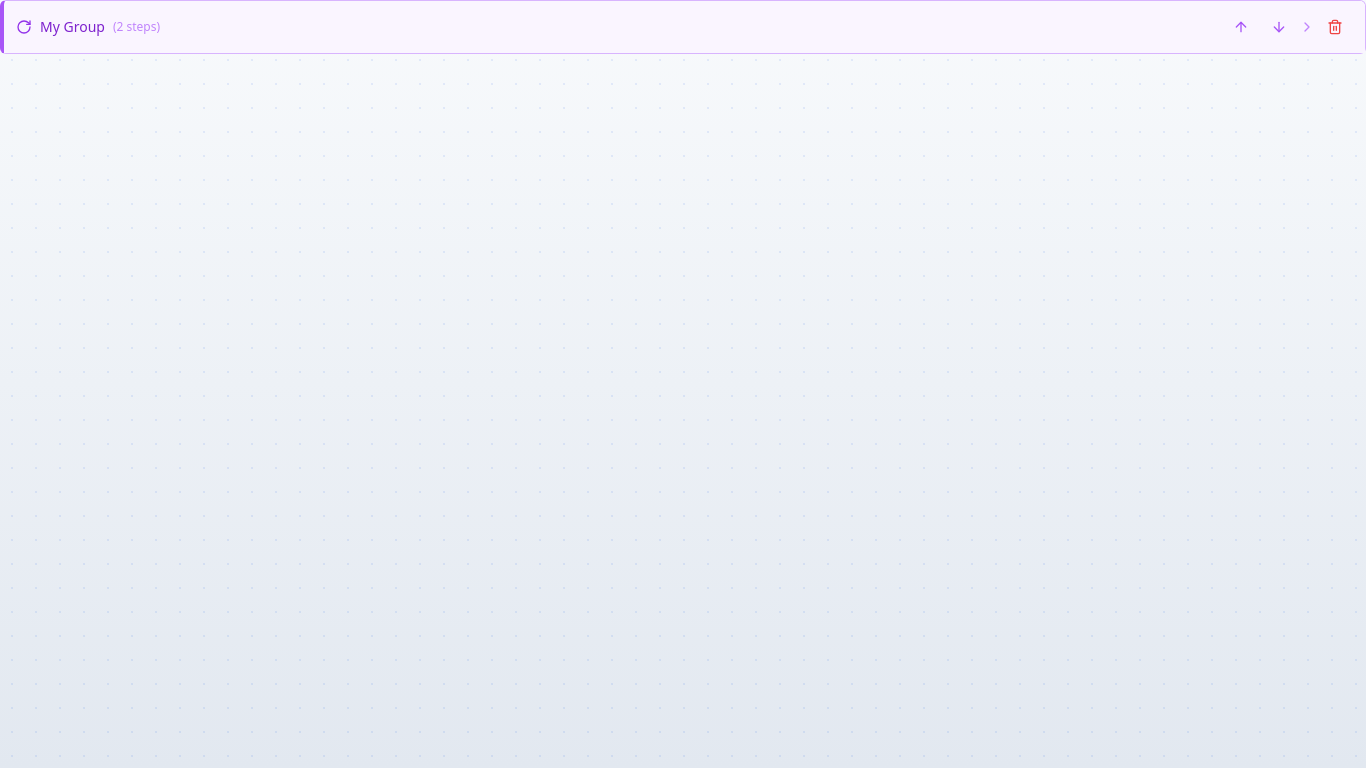
Test case: GroupCard › step management within group › renders child StepCards for each step in the group
The width and height of the screenshot is (1366, 768).
Click the button. click: point(72, 26)
box: [4,1,1365,53]
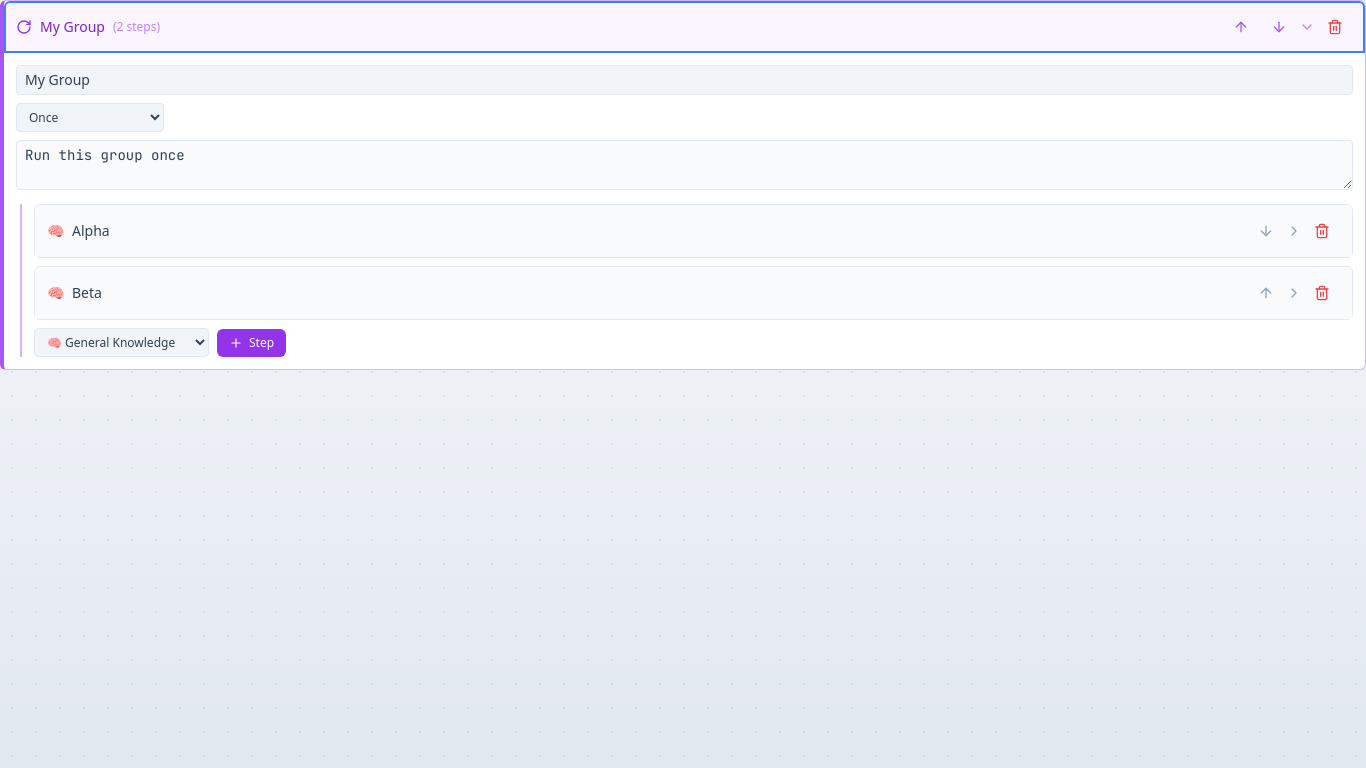
Now the number of list items is 2, box [34,204,1353,258]; [34,266,1353,320]
Now the text "Alpha" is shown, box [72,221,110,241]
Now the text "Beta" is shown, box [72,283,102,303]
